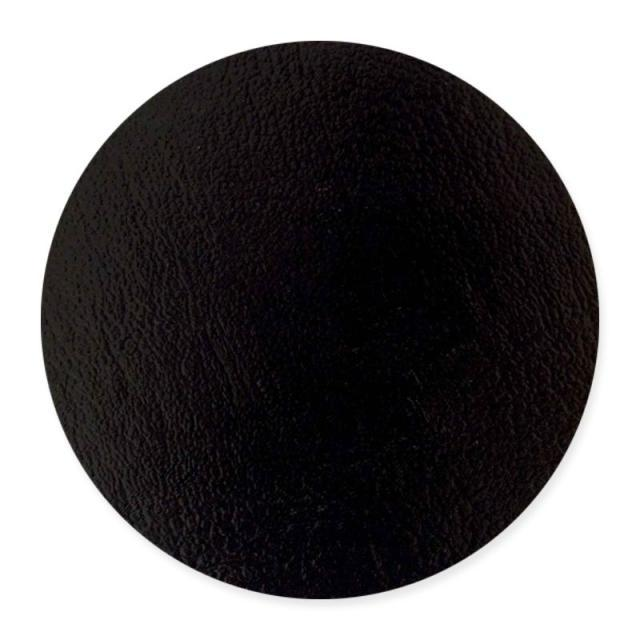hidden camera: (18, 16, 640, 640)
